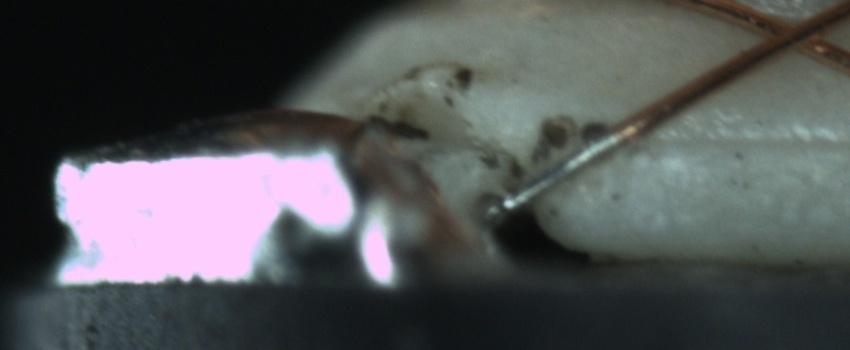CL: (748, 3, 843, 63)
DL: (636, 109, 848, 173)
TS: (504, 125, 625, 213)
